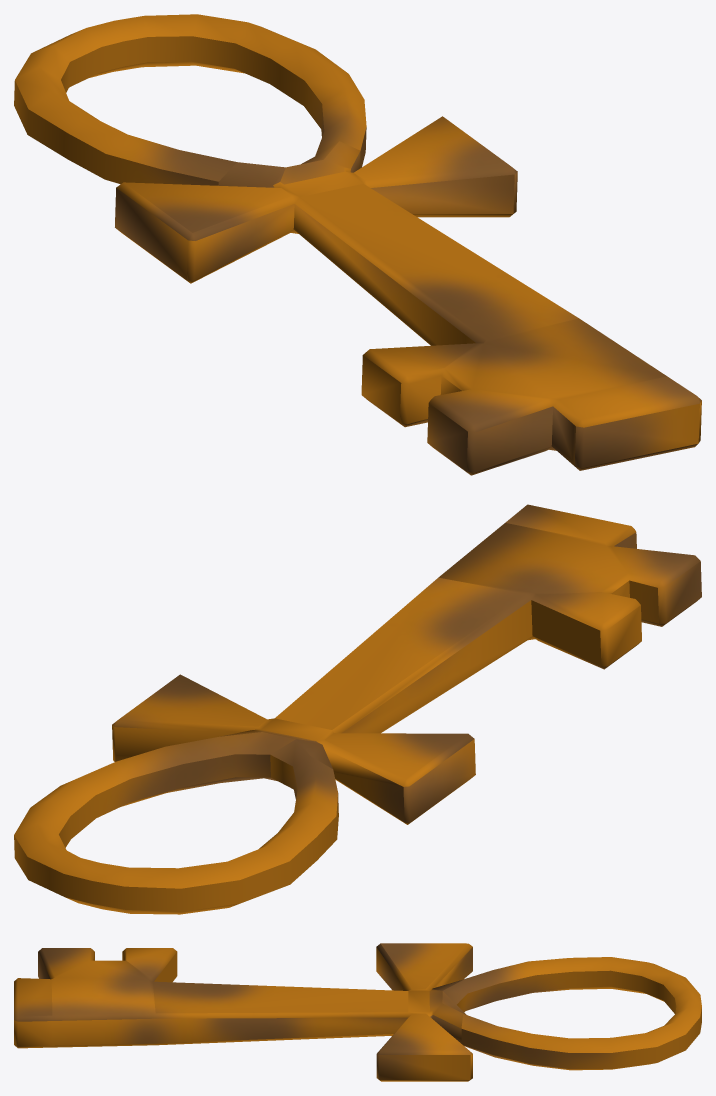
File: LlavePequena.FBX
The picture shows the model from 3 angles, top to bottom: view 1: azimuth 30°, elevation 25°; view 2: azimuth 150°, elevation 25°; view 3: azimuth 270°, elevation 25°; orthographic projection. The views are drawn at different scales.
Visible parts, largest first — view 1: LlavePequena; view 2: LlavePequena; view 3: LlavePequena.
Part boxes in pixels (x1,y1,x2,y2): LlavePequena: (14, 14, 701, 475); LlavePequena: (14, 504, 701, 914); LlavePequena: (14, 943, 701, 1081).
Size of the model in its own units: 10.93 by 1.96 by 30.9.
